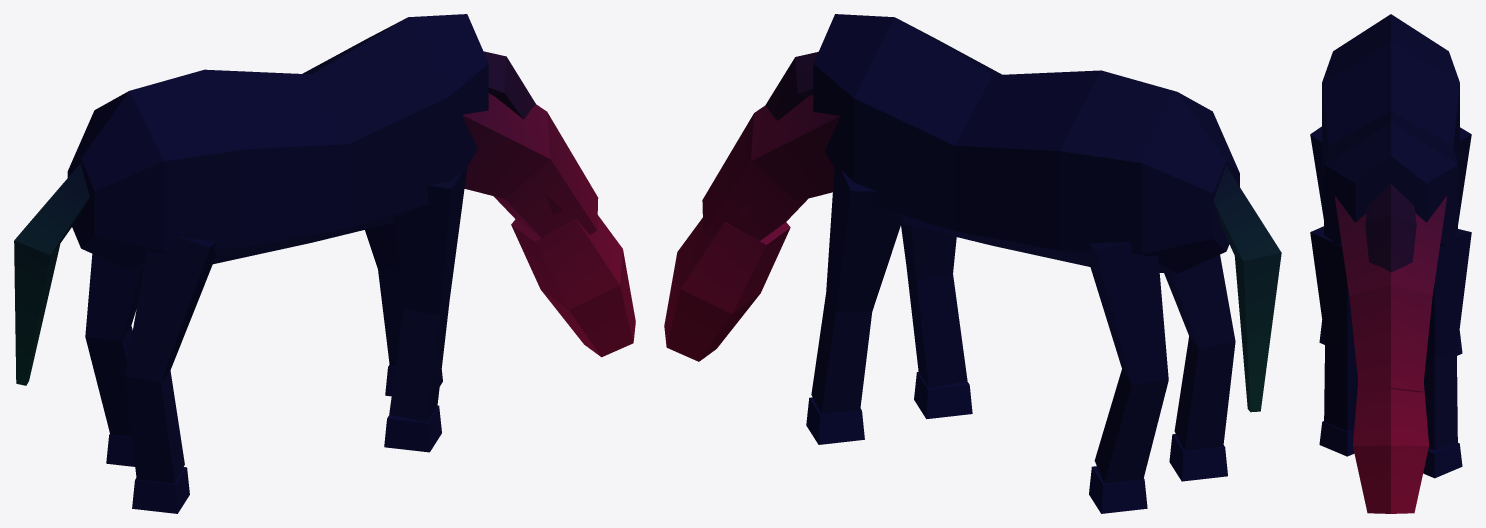
The model's file is ns-horse-b.glb.
3 views of the same model, side by side, from view 1: azimuth 30°, elevation 25°; view 2: azimuth 150°, elevation 25°; view 3: azimuth 270°, elevation 25° (orthographic). The views are drawn at different scales.
Parts seen in each view (by area): view 1: Sculpted silhouette, Tapered form.006, Tapered form.002, Tapered form.008, Tapered form.009, Tapered form.013, Tapered form.004, Tapered form, Tapered form.012, Tapered form.003, Tapered form.007, Tapered form.005; view 2: Sculpted silhouette, Tapered form.004, Tapered form, Tapered form.008, Tapered form.009, Tapered form.006, Tapered form.013, Tapered form.002, Tapered form.012, Tapered form.003, Tapered form.005, Tapered form.001 (+1 smaller); view 3: Sculpted silhouette, Tapered form.008, Tapered form.009, Tapered form, Tapered form.002, Tapered form.012, Tapered form.001, Tapered form.003, Tapered form.004, Tapered form.006.
Boxes of the visible parts, <box> form: Sculpted silhouette: <box>67,14,488,270</box>; Tapered form.006: <box>124,236,216,483</box>; Tapered form.002: <box>389,167,467,422</box>; Tapered form.008: <box>462,93,598,237</box>; Tapered form.009: <box>511,215,635,357</box>; Tapered form.013: <box>14,163,89,385</box>; Tapered form.004: <box>85,254,143,436</box>; Tapered form: <box>365,222,403,366</box>; Tapered form.012: <box>483,51,535,119</box>; Tapered form.003: <box>384,405,441,452</box>; Tapered form.007: <box>132,467,189,513</box>; Tapered form.005: <box>106,434,135,466</box>; Sculpted silhouette: <box>813,14,1239,273</box>; Tapered form.004: <box>1087,241,1168,483</box>; Tapered form: <box>811,168,903,414</box>; Tapered form.008: <box>702,94,839,240</box>; Tapered form.009: <box>664,217,790,361</box>; Tapered form.006: <box>1164,255,1235,450</box>; Tapered form.013: <box>1213,166,1281,412</box>; Tapered form.002: <box>901,223,967,388</box>; Tapered form.012: <box>765,52,818,120</box>; Tapered form.003: <box>914,371,972,419</box>; Tapered form.005: <box>1089,466,1147,513</box>; Tapered form.001: <box>806,397,864,444</box>; Sculpted silhouette: <box>1322,14,1459,246</box>; Tapered form.008: <box>1335,196,1446,392</box>; Tapered form.009: <box>1353,382,1428,513</box>; Tapered form: <box>1424,229,1471,450</box>; Tapered form.002: <box>1310,226,1357,431</box>; Tapered form.012: <box>1365,184,1416,272</box>; Tapered form.001: <box>1423,443,1462,478</box>; Tapered form.003: <box>1319,421,1354,456</box>; Tapered form.004: <box>1458,127,1471,224</box>; Tapered form.006: <box>1310,126,1323,219</box>.
Size of the model in its own units: 1.15 by 0.71 by 0.314.
